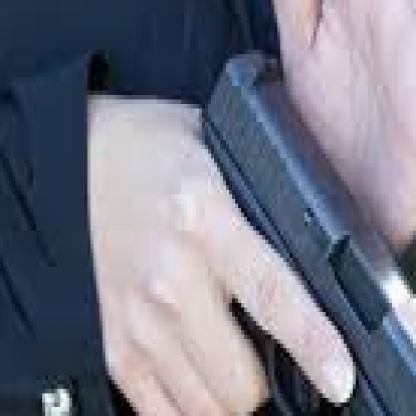gun: (163, 40, 413, 412)
